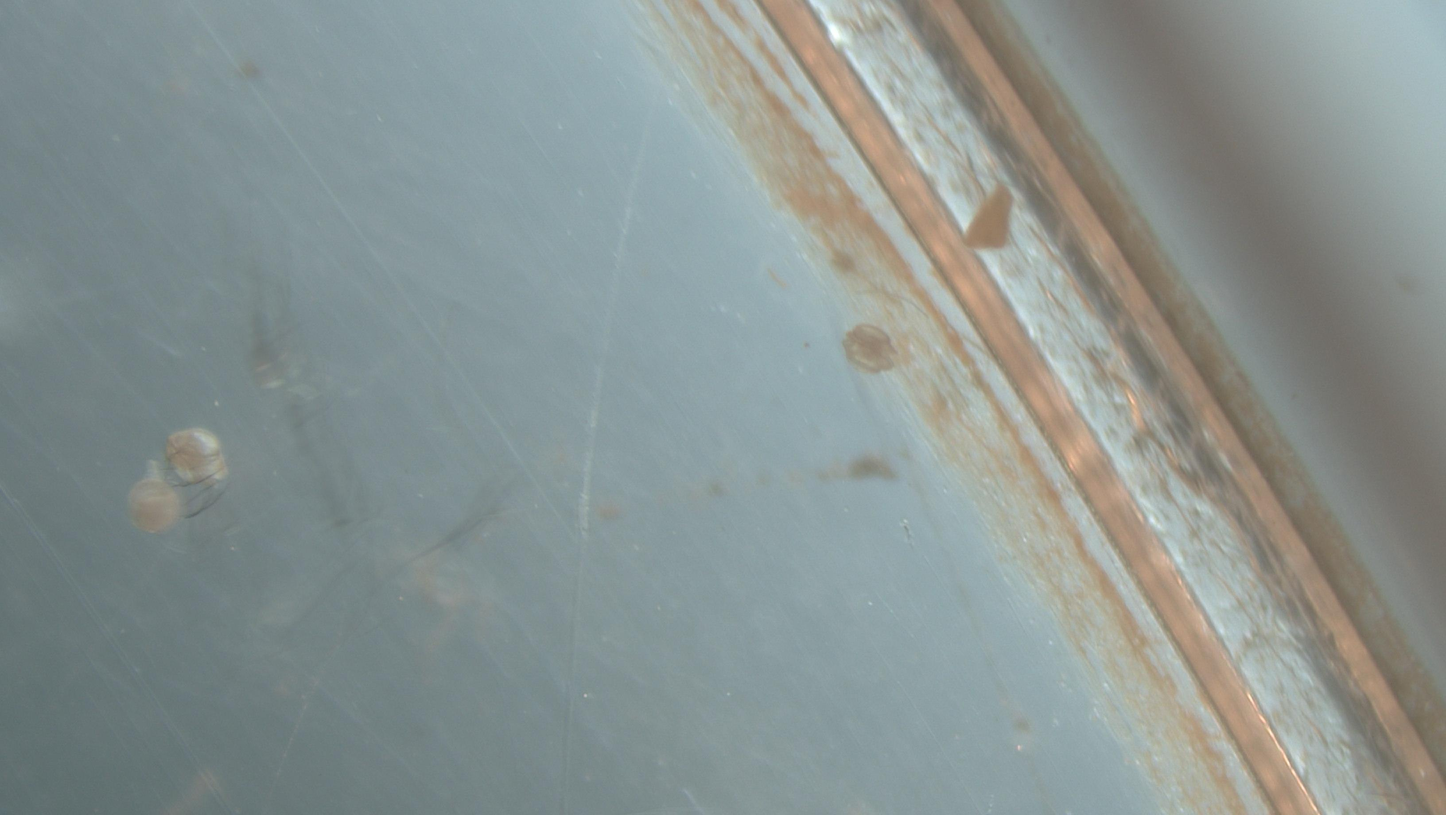live: (128, 462, 189, 534), (167, 428, 227, 485), (842, 324, 898, 374)
